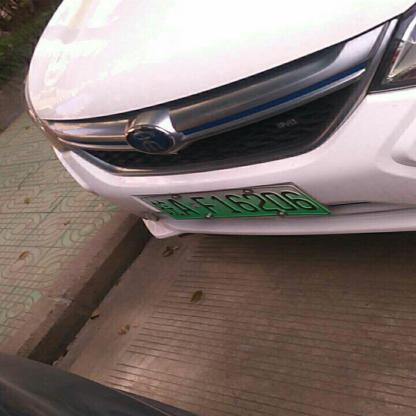lp: (140, 186, 330, 219)
